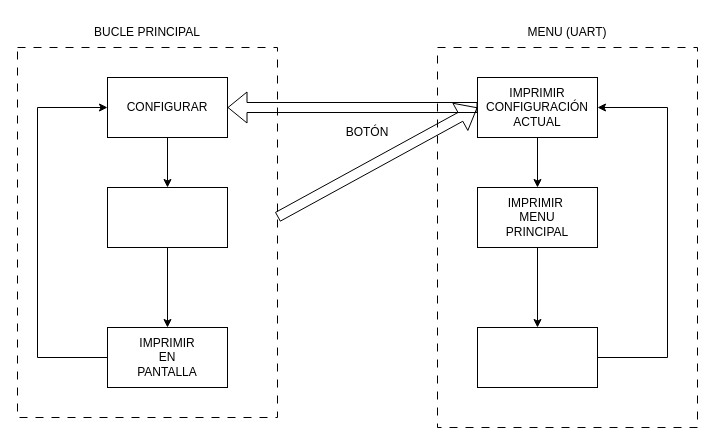
This 715x445 diagram has some shape labels left out. The shapes that lost their labels are listed below. From the top down, each one's centre as x and y in pixels, then its label:
At (167,217): "MEDIR".
At (537,357): "IMPRIMIR SUB MENU".
